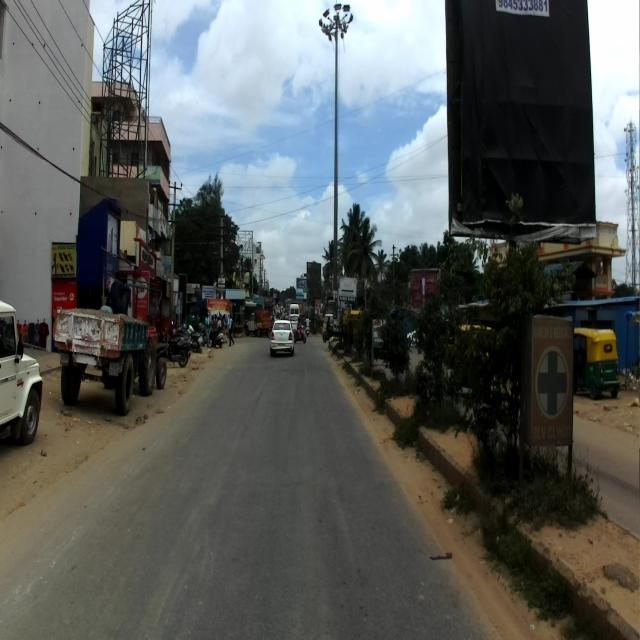Car_Toyota: (270, 314, 294, 356)
